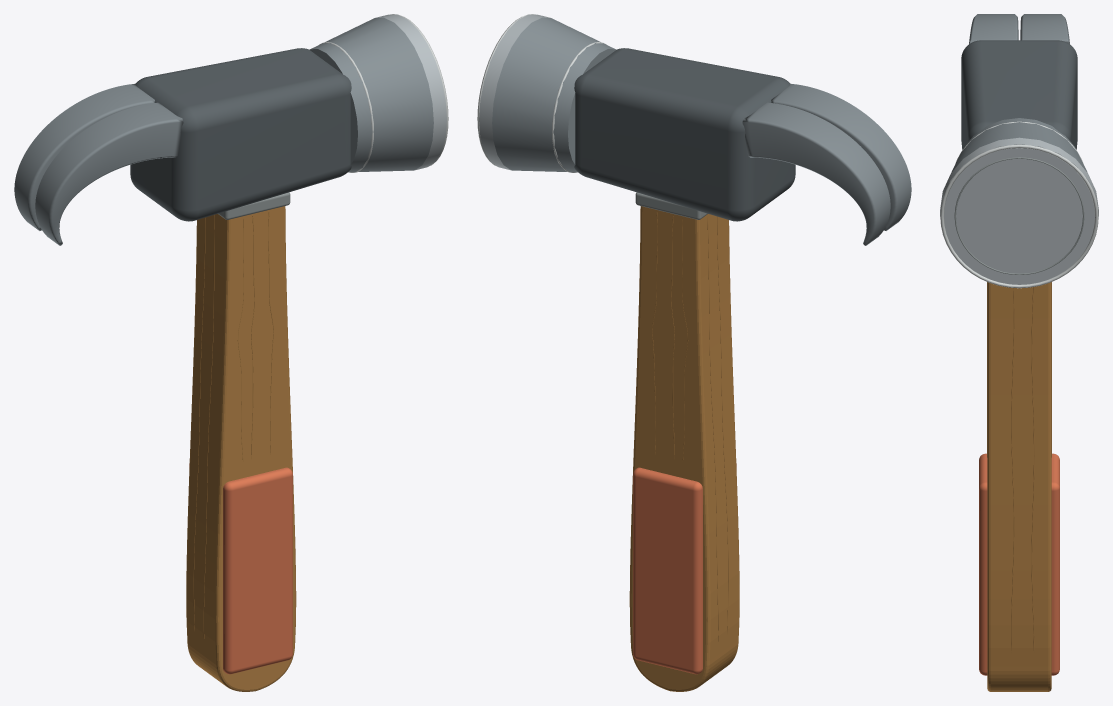
The model's file is workshop-hammer-inset.glb.
3 views of the same model, side by side, from view 1: azimuth 30°, elevation 25°; view 2: azimuth 150°, elevation 25°; view 3: azimuth 270°, elevation 25° (orthographic).
Parts seen in each view (by area): view 1: Wood_Handle, steelInset, Grip_Front, steel, Claw_Back, Claw_Front, steelEdge, Handle_Socket; view 2: Wood_Handle, steelInset, Grip_Back, steel, Claw_Front, Claw_Back, steelEdge, Handle_Socket; view 3: Wood_Handle, steelEdge, steelInset, steel, Grip_Front, Grip_Back, Polished_Striking_Rim, Claw_Front, Claw_Back, Machined_Face_Groove, Side_Wood_Right_2, Side_Wood_Right_5.
Part boxes in pixels (bbox=[...]): Wood_Handle: bbox=[186, 206, 296, 691]; steelInset: bbox=[130, 48, 351, 221]; Grip_Front: bbox=[223, 467, 292, 674]; steel: bbox=[309, 17, 433, 172]; Claw_Back: bbox=[35, 102, 183, 245]; Claw_Front: bbox=[14, 84, 154, 230]; steelEdge: bbox=[375, 14, 446, 170]; Handle_Socket: bbox=[218, 192, 290, 219]; Wood_Handle: bbox=[629, 206, 739, 691]; steelInset: bbox=[574, 48, 795, 221]; Grip_Back: bbox=[633, 467, 702, 674]; steel: bbox=[492, 17, 616, 172]; Claw_Front: bbox=[742, 102, 890, 245]; Claw_Back: bbox=[771, 84, 911, 230]; steelEdge: bbox=[479, 14, 550, 170]; Handle_Socket: bbox=[635, 192, 707, 219]; Wood_Handle: bbox=[987, 282, 1051, 691]; steelEdge: bbox=[940, 137, 1098, 284]; steelInset: bbox=[961, 40, 1077, 149]; steel: bbox=[951, 118, 1087, 172]; Grip_Front: bbox=[979, 453, 987, 675]; Grip_Back: bbox=[1051, 453, 1059, 675]; Polished_Striking_Rim: bbox=[940, 144, 1098, 288]; Claw_Front: bbox=[1020, 14, 1069, 43]; Claw_Back: bbox=[969, 14, 1018, 43]; Machined_Face_Groove: bbox=[954, 157, 1084, 274]; Side_Wood_Right_2: bbox=[1031, 287, 1034, 652]; Side_Wood_Right_5: bbox=[1011, 288, 1014, 652].
Size of the model in its own units: 0.2603 by 0.408 by 0.094.
